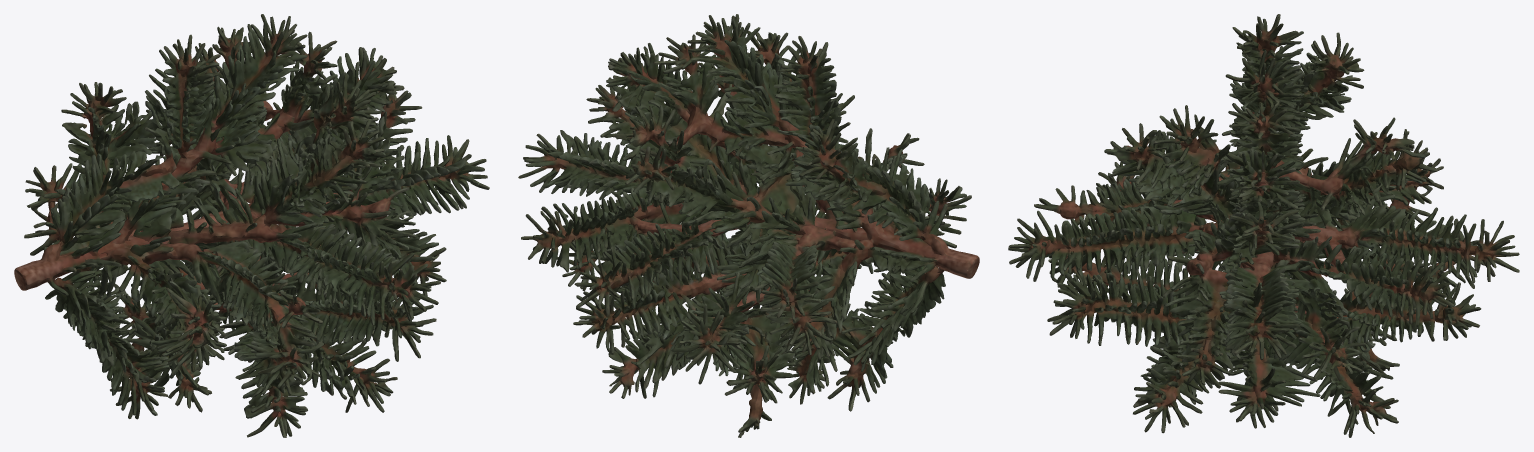
Rendered from spruce-branch-cluster-v21.glb.
3 renders of one model, left to right at view 1: azimuth 30°, elevation 25°; view 2: azimuth 150°, elevation 25°; view 3: azimuth 270°, elevation 25°, orthographic. The views are drawn at different scales.
Parts seen in each view (by area): view 1: world; view 2: world; view 3: world.
Part boxes in pixels (x1,y1,x2,y2): world: (14, 14, 489, 437); world: (518, 14, 979, 437); world: (1008, 14, 1519, 437).
Bounding box in the file's own units: 0.45 × 0.3479 × 0.4383.
1 material, 1 textured.
